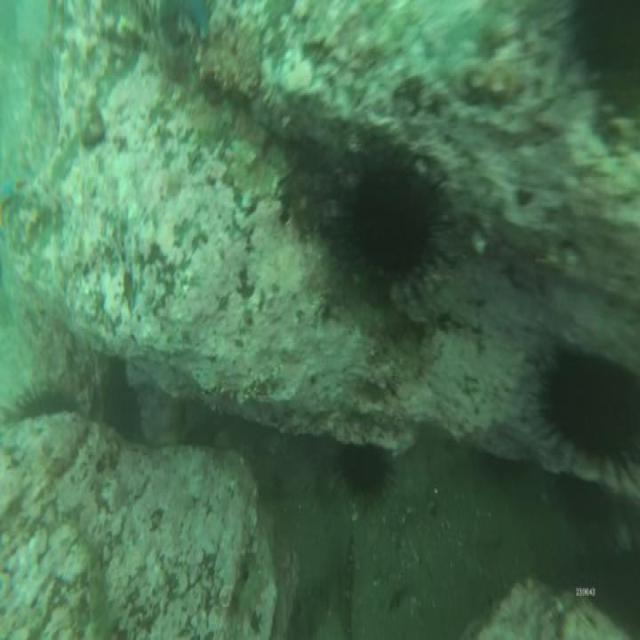echinus: (341, 158, 443, 294), (543, 341, 640, 476), (338, 433, 394, 506)
